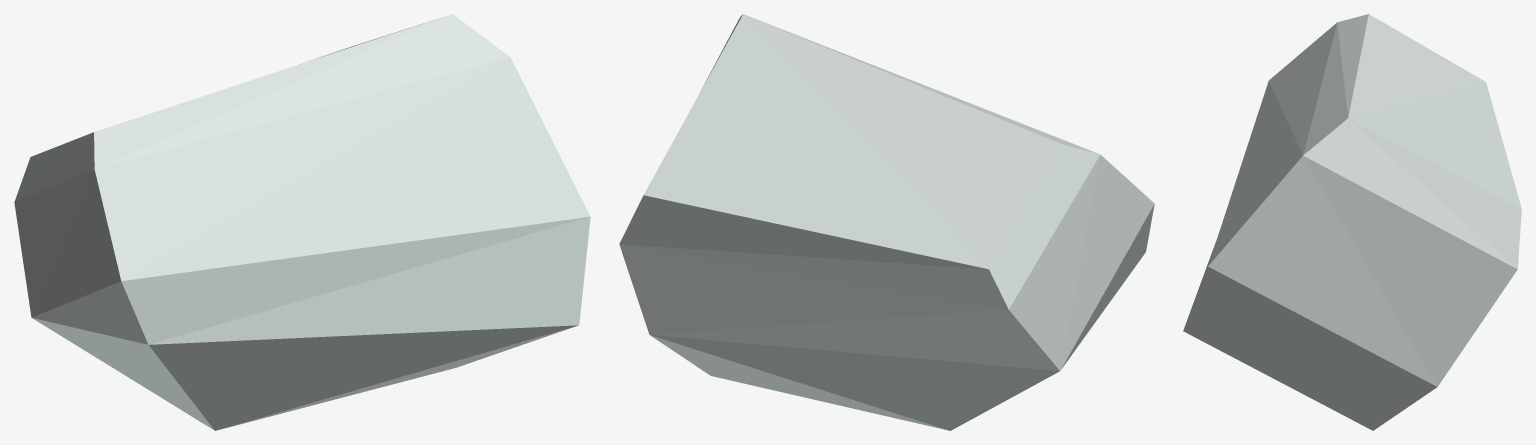
Rendered from rock1.glb.
The picture shows the model from 3 angles, left to right: view 1: azimuth 30°, elevation 25°; view 2: azimuth 150°, elevation 25°; view 3: azimuth 270°, elevation 25°; orthographic projection. The views are drawn at different scales.
Visible parts, largest first — view 1: Cube; view 2: Cube; view 3: Cube.
Part boxes in pixels (bbox=[...]): Cube: bbox=[14, 14, 590, 430]; Cube: bbox=[619, 14, 1154, 430]; Cube: bbox=[1183, 14, 1521, 430].
Size of the model in its own units: 2.54 by 2.07 by 2.08.
1 material, 1 textured.
